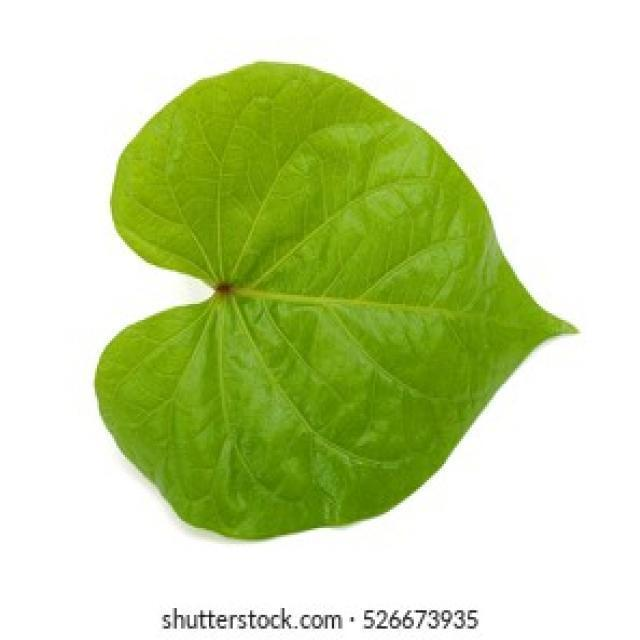Healthy Leaf: (88, 61, 590, 557)
